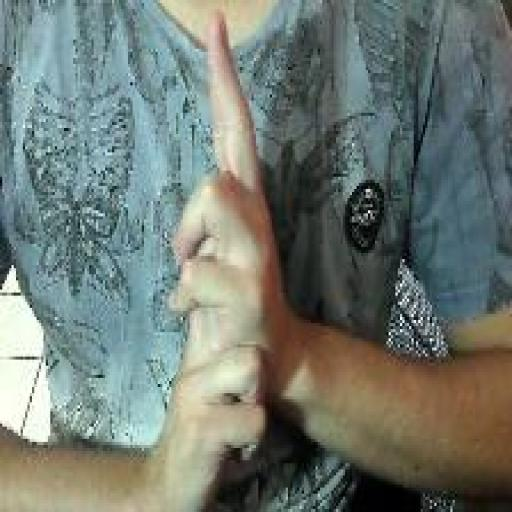Hitsuji -ram-: (166, 8, 282, 510)
